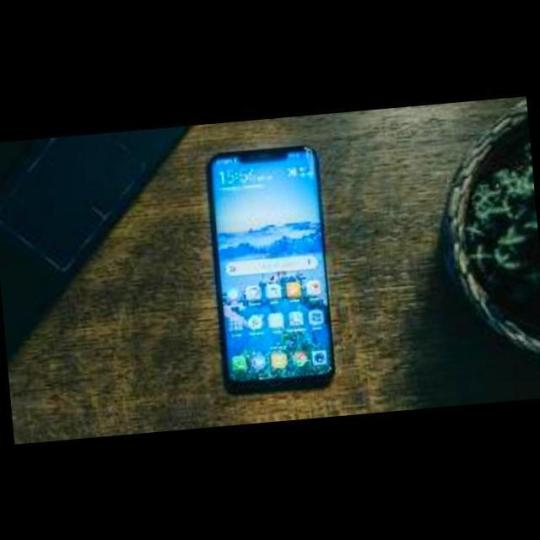phone: (206, 146, 337, 392)
